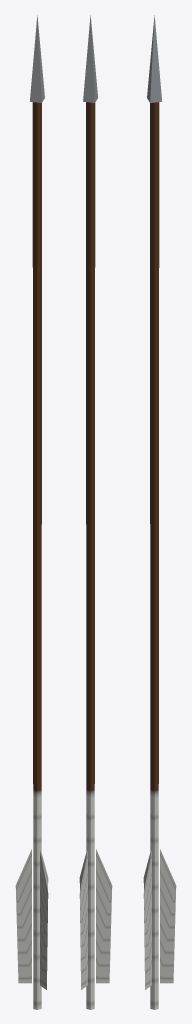
Rendered from mm7_m214_arrow.glb.
3 renders of one model, left to right at view 1: azimuth 30°, elevation 25°; view 2: azimuth 210°, elevation 25°; view 3: azimuth 330°, elevation 25°, orthographic.
Parts seen in each view (by area): view 1: Arrow; view 2: Arrow; view 3: Arrow.
Part boxes in pixels (x1,y1,x2,y2): Arrow: (15, 15, 48, 1009); Arrow: (79, 15, 112, 1009); Arrow: (143, 15, 176, 1009).
Bounding box in the file's own units: 0.0277 × 0.81 × 0.024.
1 material, 1 textured.
